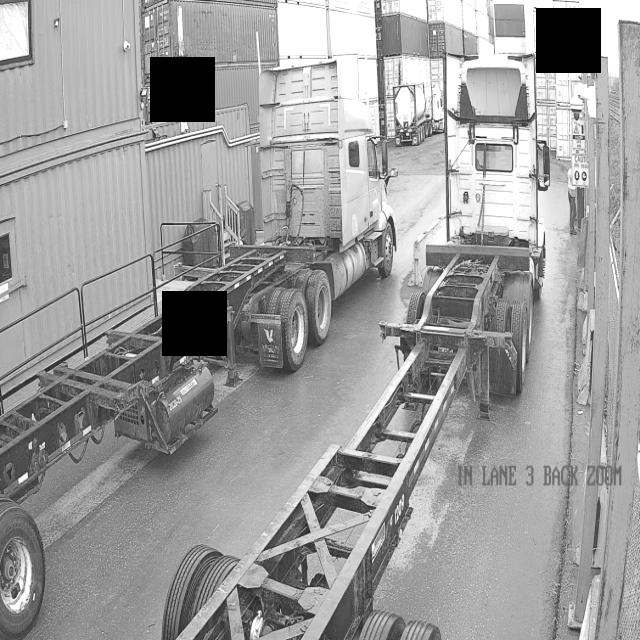truck_without_container: (0, 62, 397, 639), (162, 55, 550, 640)
